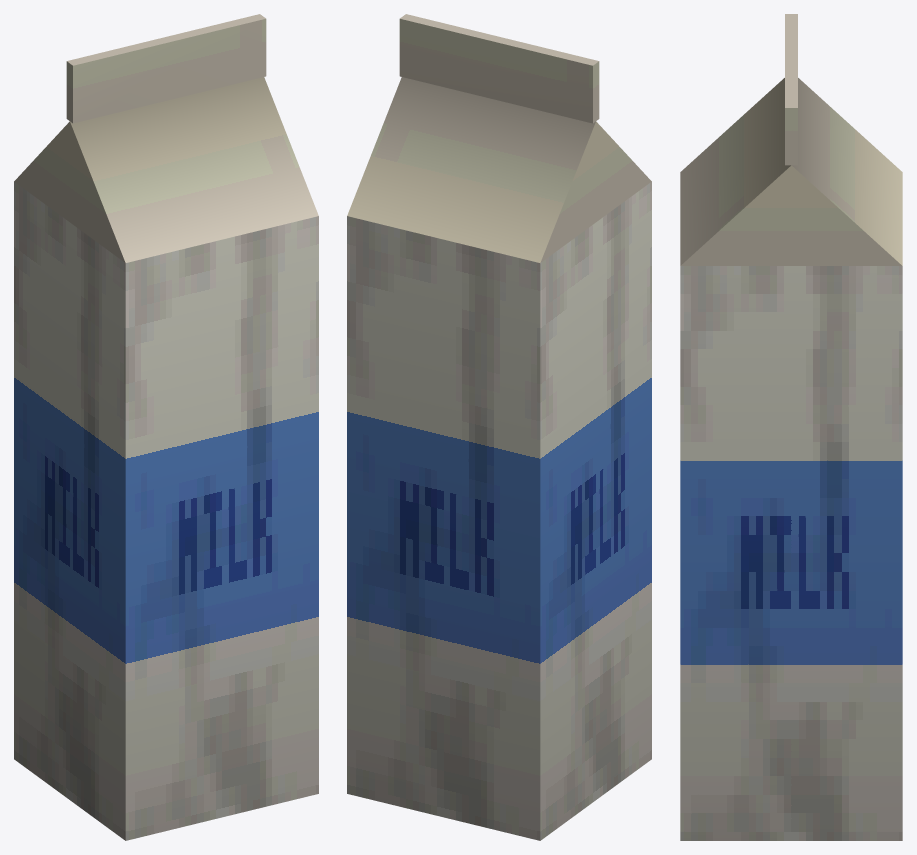
Rendered from milk.glb.
The picture shows the model from 3 angles, left to right: view 1: azimuth 30°, elevation 25°; view 2: azimuth 150°, elevation 25°; view 3: azimuth 270°, elevation 25°; orthographic projection.
Visible parts, largest first — view 1: milk; view 2: milk; view 3: milk.
Boxes of the visible parts, x1,y1,x2,y2 form: milk: [14, 14, 318, 840]; milk: [347, 14, 651, 840]; milk: [680, 14, 902, 840].
Bounding box in the file's own units: 0.07 × 0.255 × 0.07.
1 material, 1 textured.
